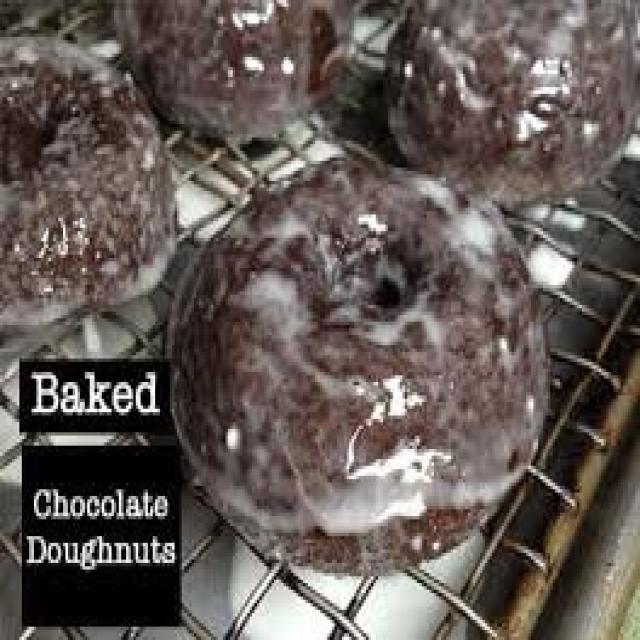Donut: (188, 190, 560, 544)
